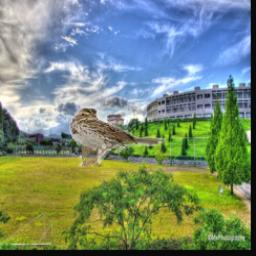Sparrow: (69, 105, 166, 167)
